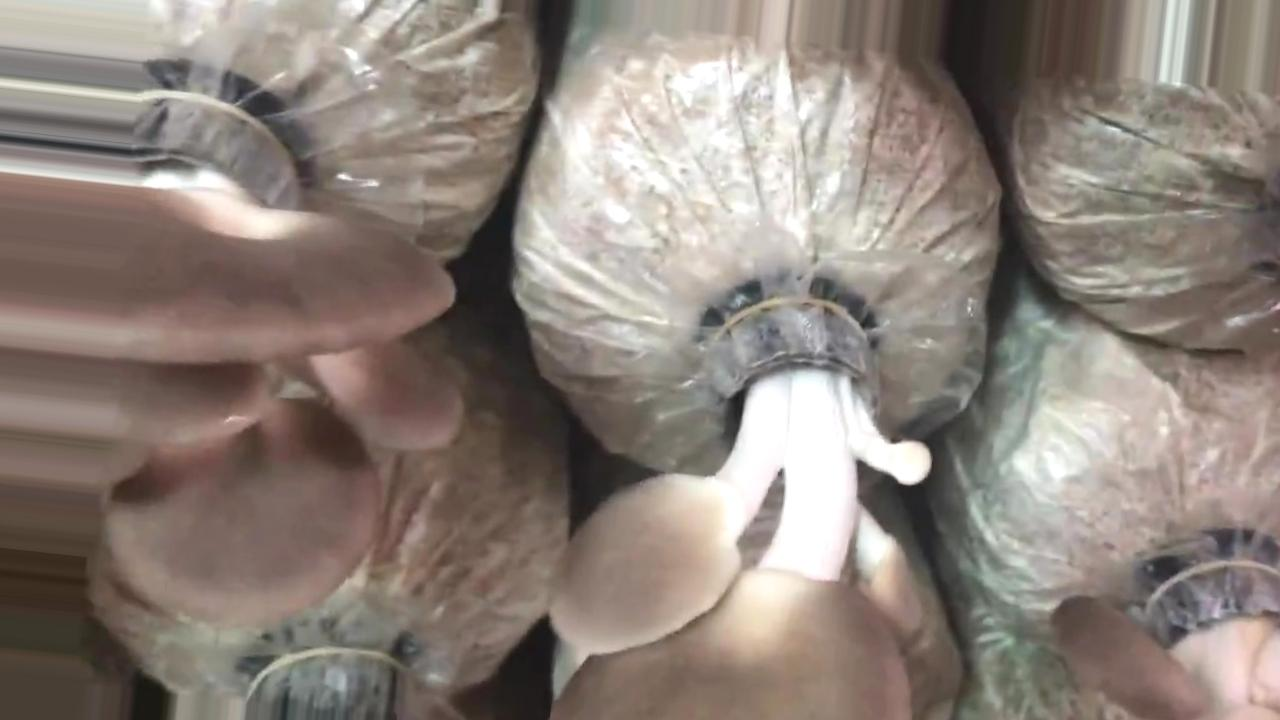nam: (1, 96, 460, 634), (547, 305, 936, 720), (1055, 562, 1280, 719)
